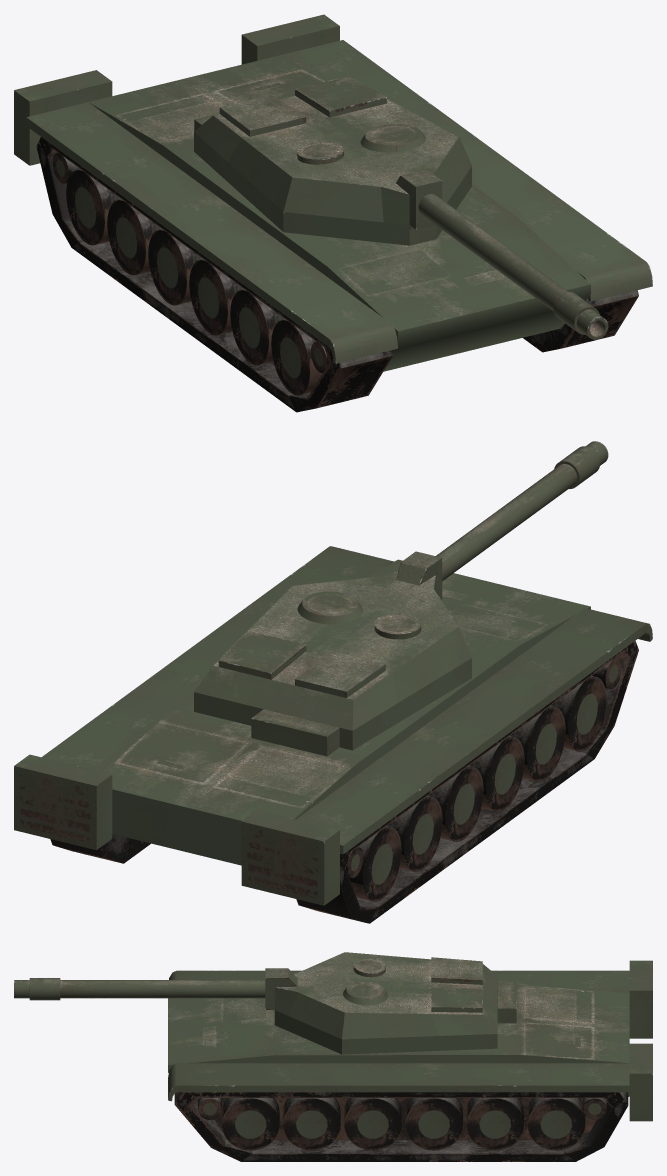
The model's file is tank.glb.
3 views of the same model, one above another, from view 1: azimuth 30°, elevation 25°; view 2: azimuth 150°, elevation 25°; view 3: azimuth 270°, elevation 25° (orthographic). The views are drawn at different scales.
Visible parts, largest first — view 1: base_low; view 2: base_low; view 3: base_low.
Part boxes in pixels (x1,y1,x2,y2): base_low: (14, 14, 652, 412); base_low: (14, 441, 652, 923); base_low: (14, 952, 652, 1161).
Bounding box in the file's own units: 1.14 × 0.6189 × 2.67.
Materials: 1 (1 with a texture image).
